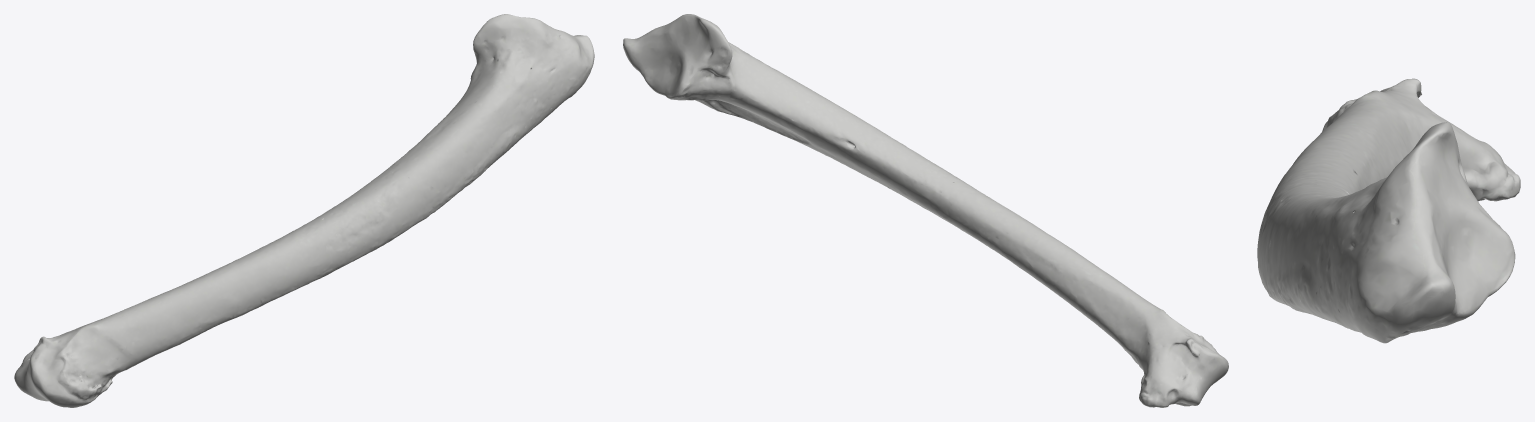
The picture shows the model from 3 angles, left to right: view 1: azimuth 30°, elevation 25°; view 2: azimuth 150°, elevation 25°; view 3: azimuth 270°, elevation 25°; orthographic projection. The views are drawn at different scales.
Visible parts, largest first — view 1: Ulna_li_Huhn.001; view 2: Ulna_li_Huhn.001; view 3: Ulna_li_Huhn.001.
Part boxes in pixels (<box>): Ulna_li_Huhn.001: <box>14,14,594,407</box>; Ulna_li_Huhn.001: <box>623,14,1228,407</box>; Ulna_li_Huhn.001: <box>1257,78,1520,343</box>.
Bounding box in the file's own units: 7200 × 3215 × 1435.
Materials: 1 (1 with a texture image).
